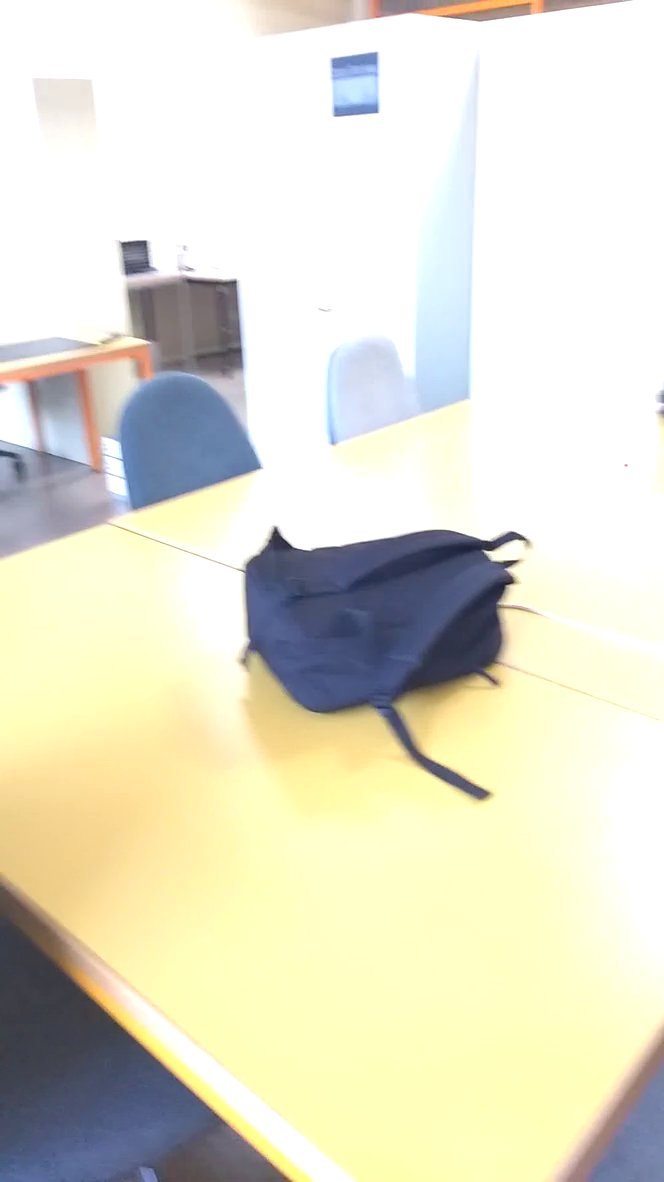bag: (213, 509, 546, 811)
chair: (99, 367, 285, 514), (309, 330, 455, 445)
